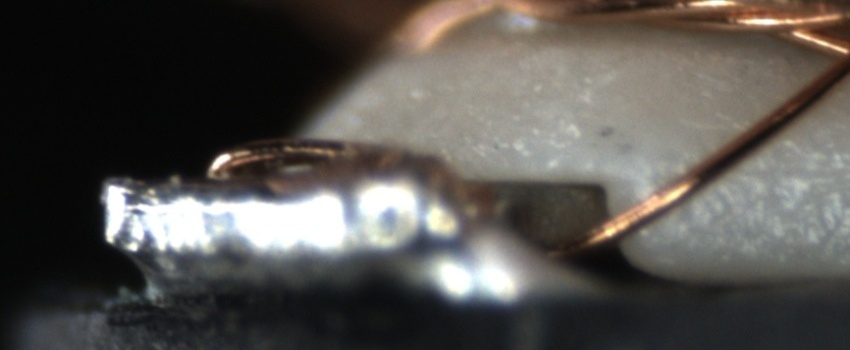DL: (705, 143, 849, 203)
TE: (198, 133, 414, 183)
